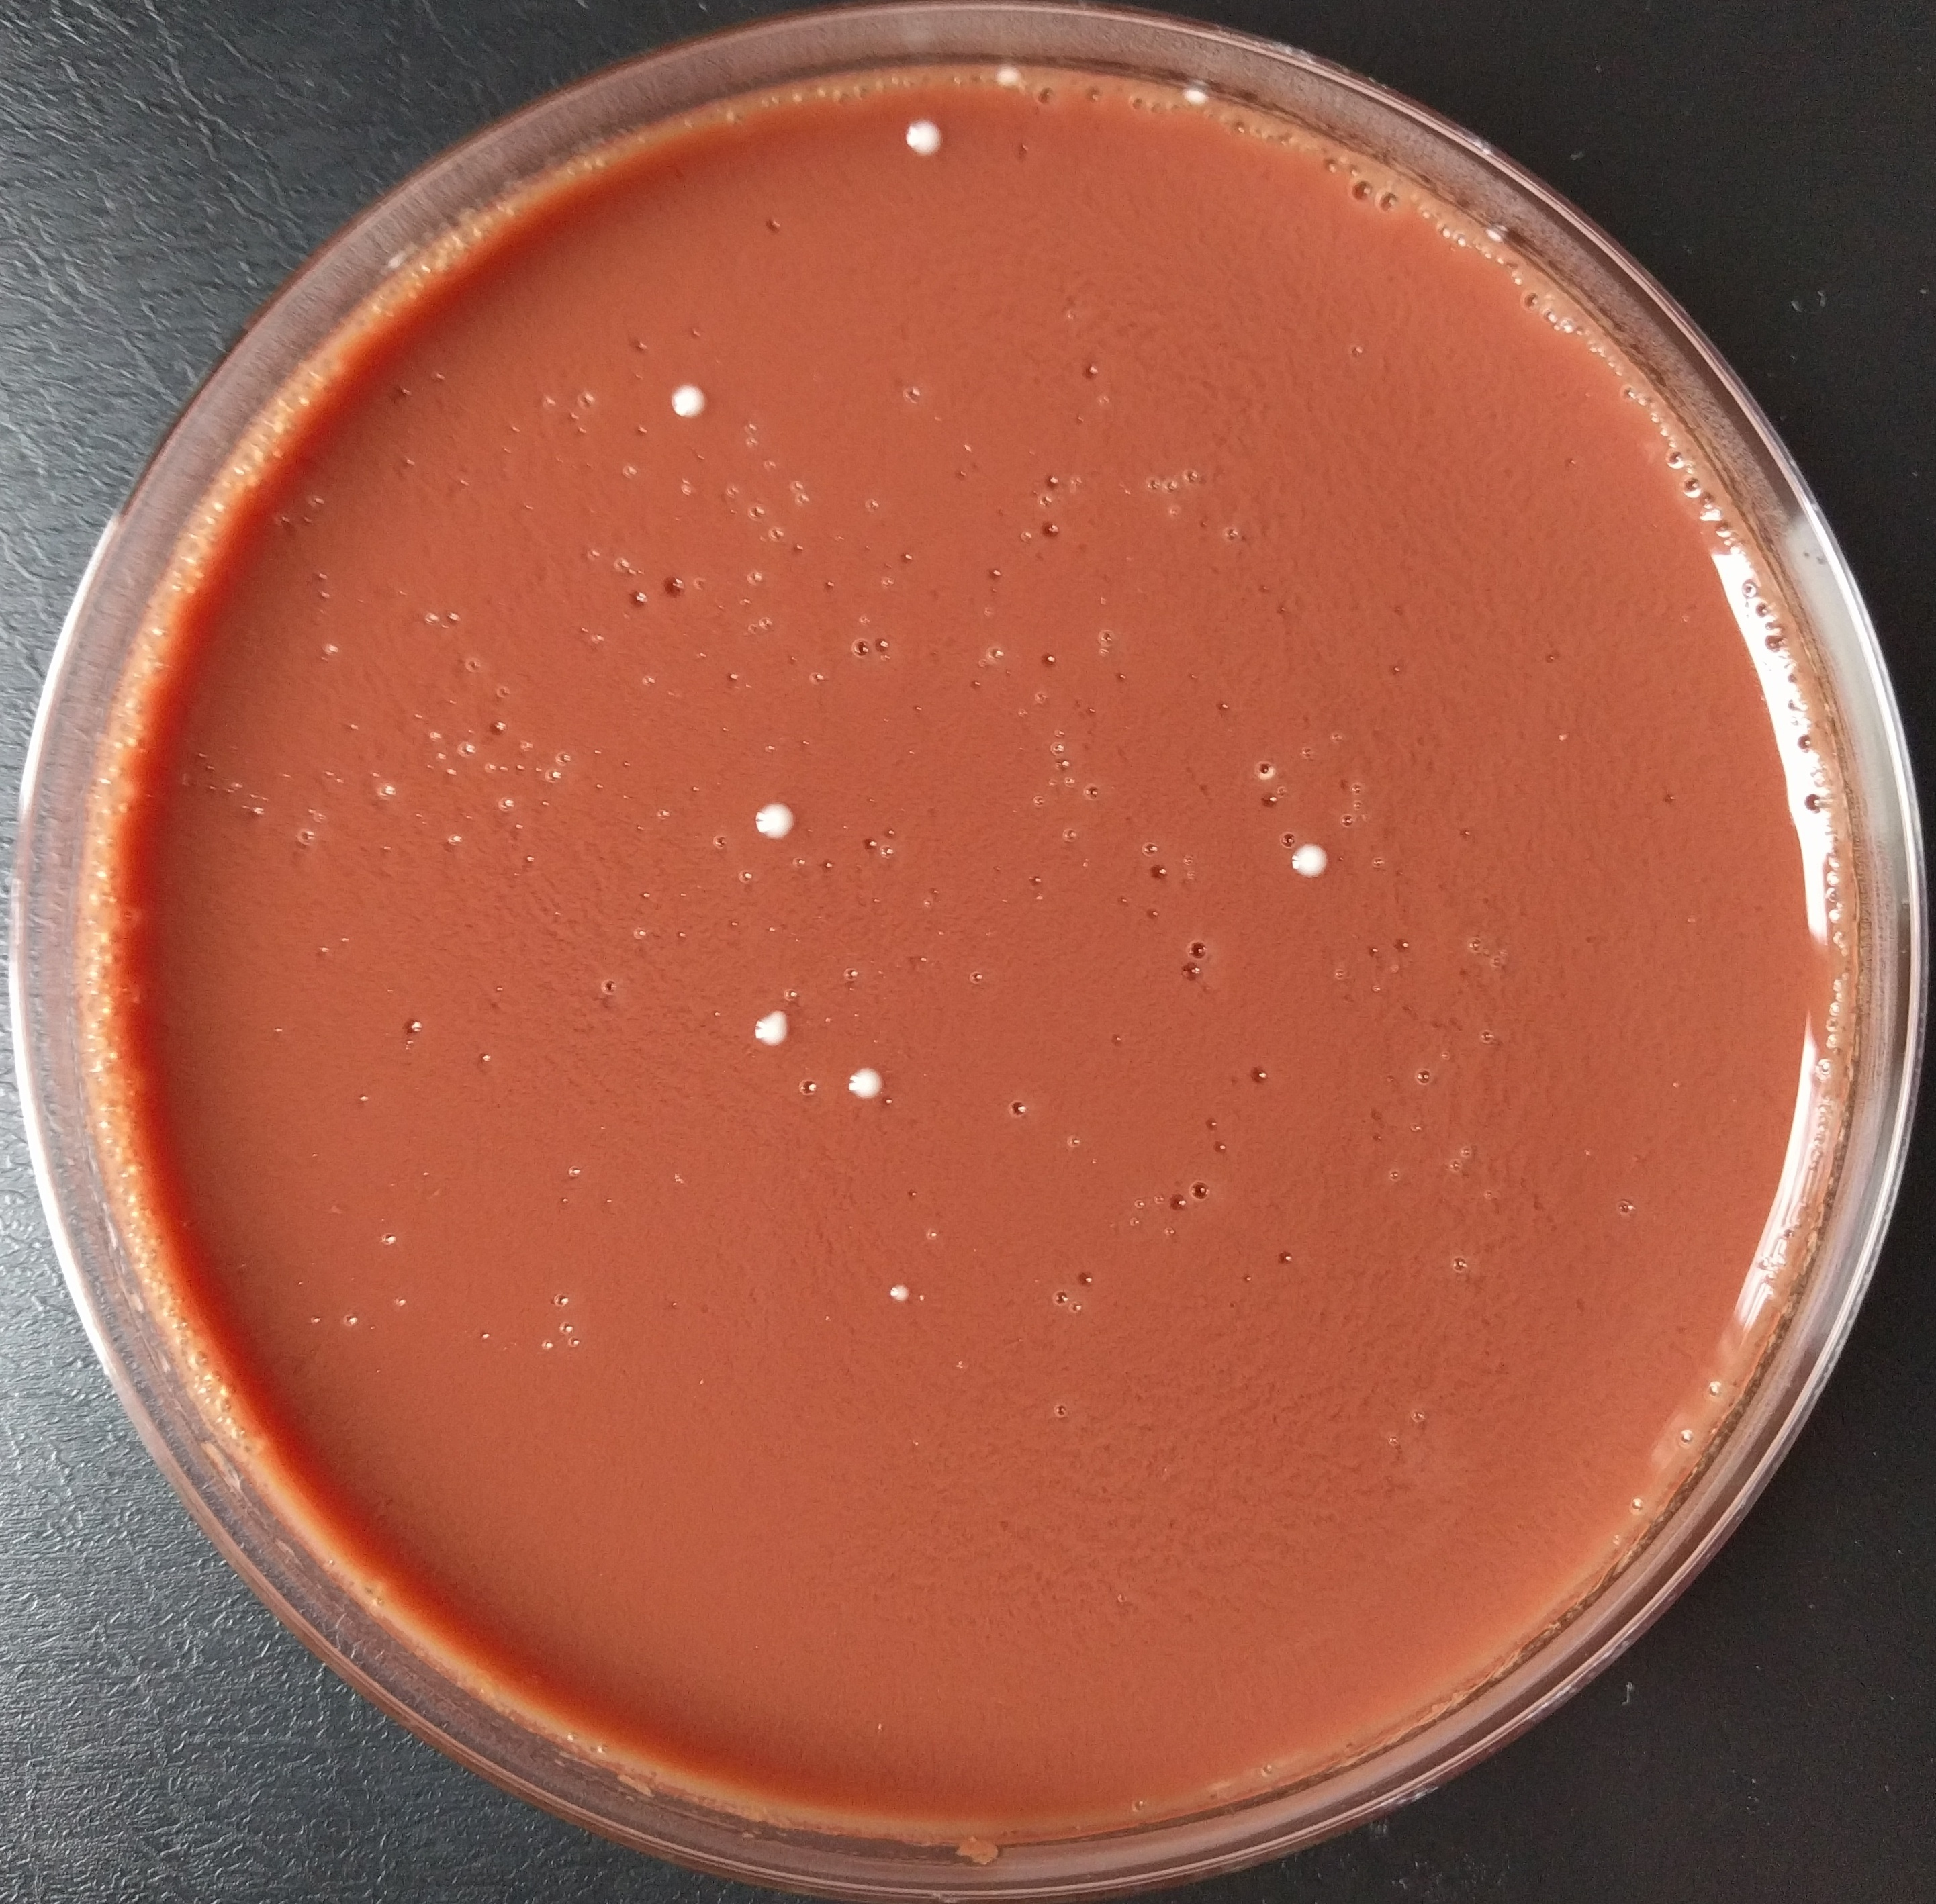sp12: (651, 363, 748, 486), (736, 757, 832, 861), (886, 91, 984, 174), (706, 975, 797, 1043), (837, 1046, 910, 1116), (856, 1243, 928, 1308), (1275, 823, 1329, 891), (1177, 77, 1219, 120), (991, 58, 1026, 96)
